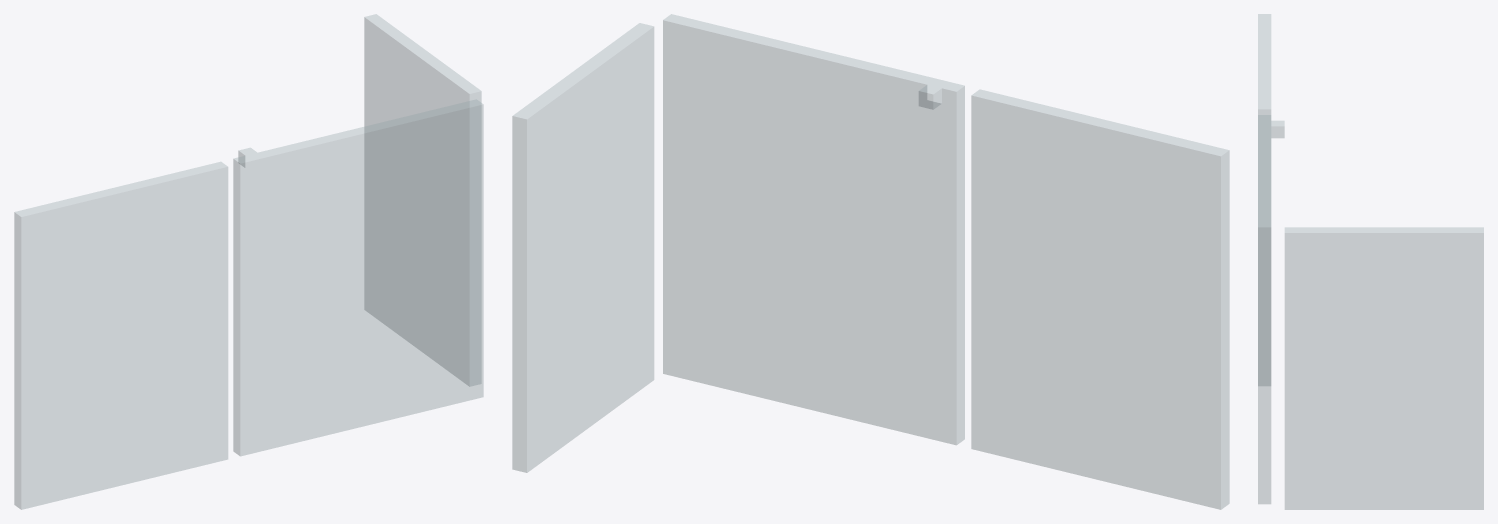
Rendered from mobile_crane_operator_glass.glb.
3 views of the same model, side by side, from view 1: azimuth 30°, elevation 25°; view 2: azimuth 150°, elevation 25°; view 3: azimuth 270°, elevation 25° (orthographic). The views are drawn at different scales.
Parts seen in each view (by area): view 1: body:compound; view 2: body:compound; view 3: body:compound.
Part boxes in pixels (box(x1,y1,x2,y2)): body:compound: box(14, 14, 483, 509); body:compound: box(512, 14, 1229, 509); body:compound: box(1258, 14, 1483, 509).
Bounding box in the file's own units: 1.22 × 0.7188 × 0.5312.
